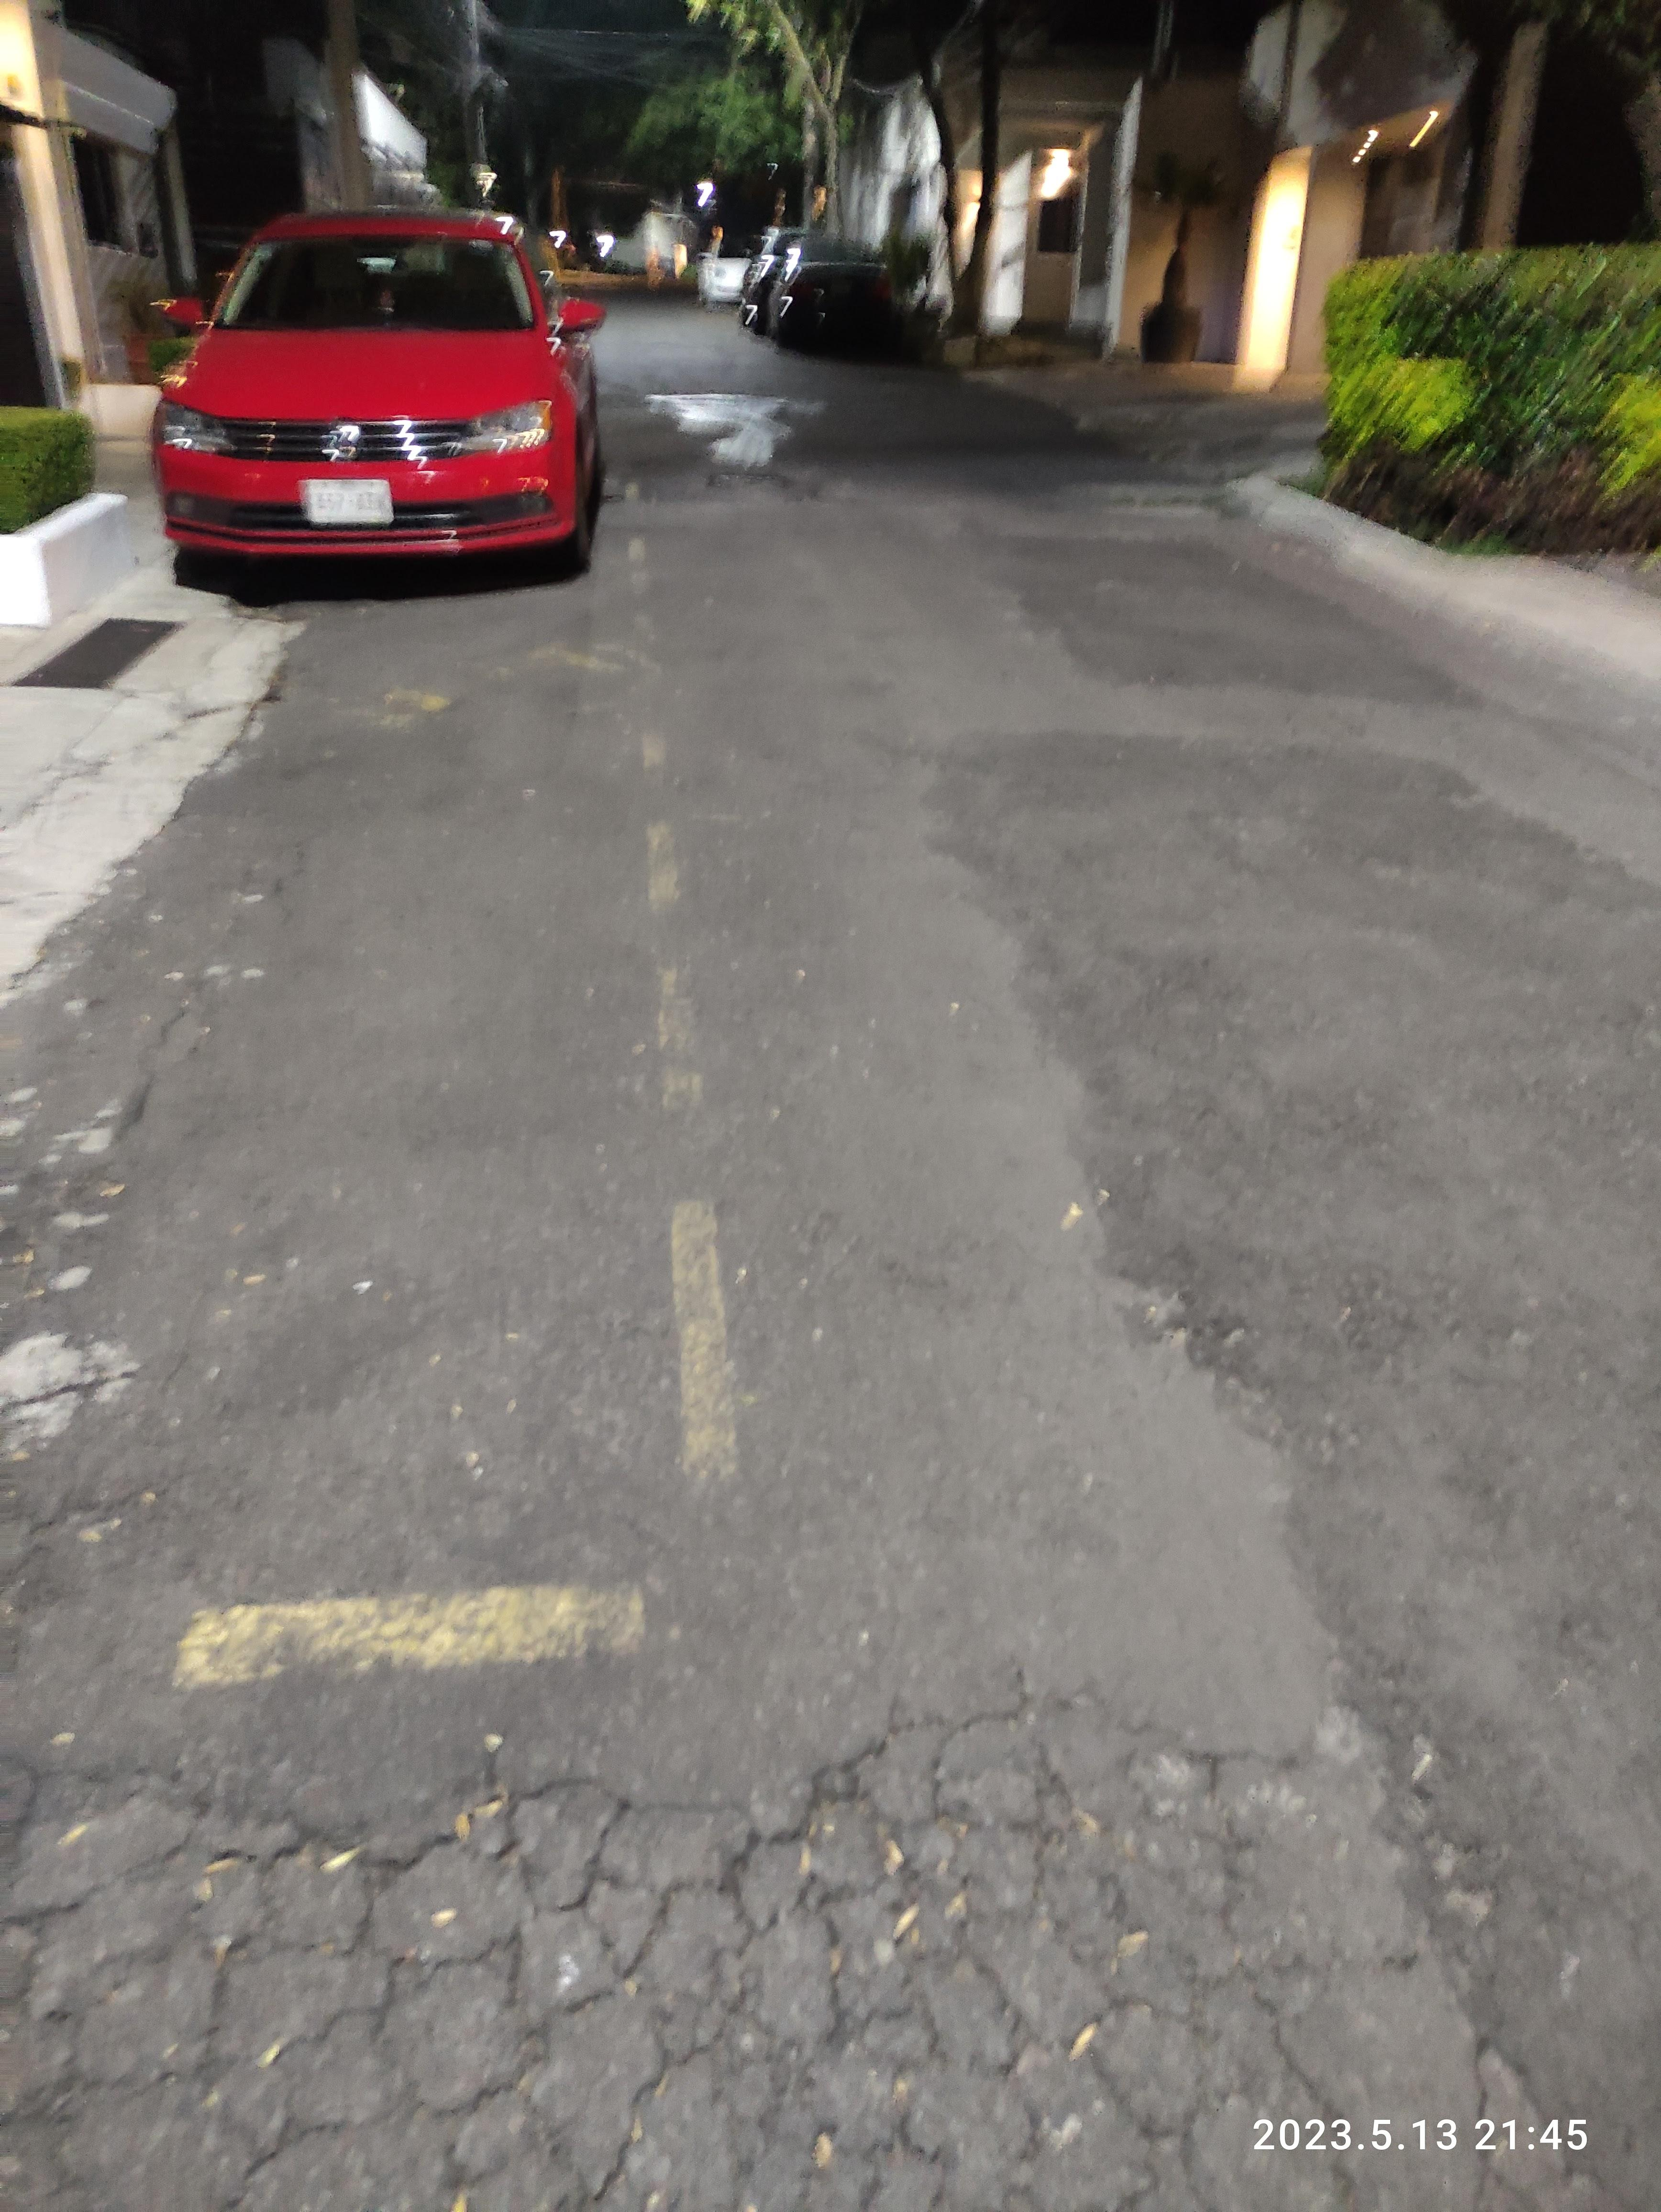alligator-crack: (65, 1715, 1420, 2212)
pothole: (169, 1567, 719, 1703)
